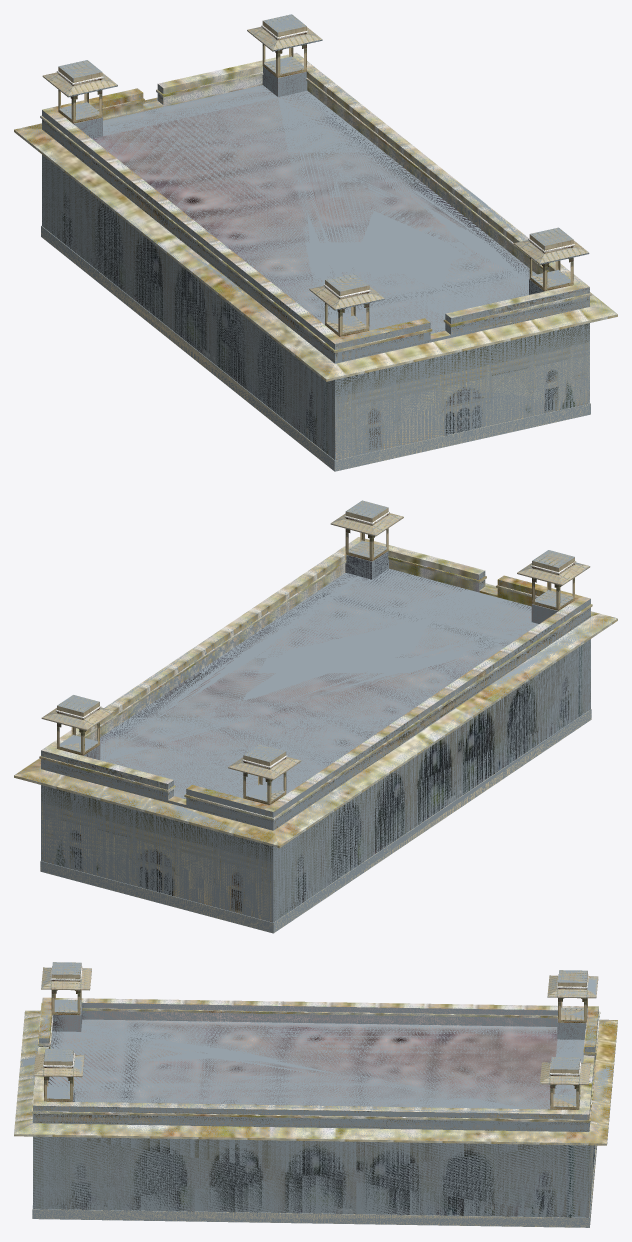
Rendered from rang+mahal.fbx.
The picture shows the model from 3 angles, top to bottom: view 1: azimuth 30°, elevation 25°; view 2: azimuth 150°, elevation 25°; view 3: azimuth 270°, elevation 25°; orthographic projection. The views are drawn at different scales.
Parts seen in each view (by area): view 1: Model, Group3, Group1, Group4, Group2; view 2: Model, Group1, Group3, Group4, Group2; view 3: Model, Group2, Group4, Group1, Group3.
Part boxes in pixels (box(x1,y1,x2,y2)): Model: box(14, 52, 617, 471); Group3: box(514, 227, 589, 291); Group1: box(42, 60, 117, 123); Group4: box(309, 273, 384, 336); Group2: box(247, 14, 322, 77); Model: box(14, 537, 617, 933); Group1: box(228, 744, 301, 805); Group3: box(330, 500, 403, 561); Group4: box(517, 550, 590, 610); Group2: box(41, 695, 114, 755); Model: box(14, 997, 617, 1227); Group2: box(540, 1057, 590, 1109); Group4: box(41, 962, 91, 1015); Group1: box(547, 970, 598, 1023); Group3: box(33, 1048, 84, 1101).
Bounding box in the file's own units: 26692 × 14347 × 51226.
